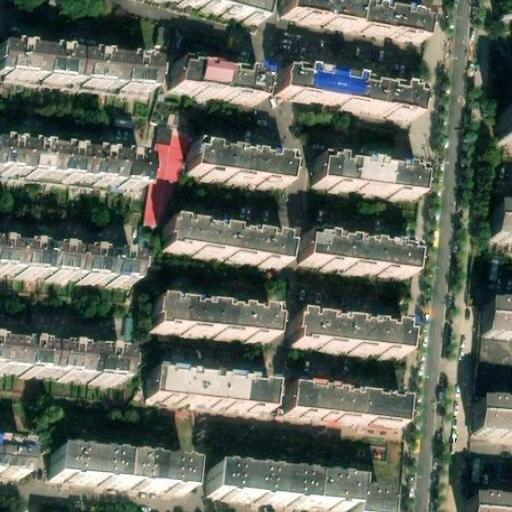building: (0, 45, 157, 94), (278, 70, 422, 117), (213, 467, 362, 510), (0, 144, 145, 187), (0, 242, 137, 286), (56, 448, 195, 489), (161, 221, 286, 265), (0, 340, 130, 382), (149, 373, 274, 414), (286, 390, 402, 429), (302, 236, 415, 275), (149, 304, 273, 339), (290, 318, 407, 355), (314, 159, 422, 199), (144, 130, 188, 228), (187, 146, 287, 188), (172, 62, 264, 102), (478, 339, 512, 406), (475, 403, 512, 439), (484, 304, 512, 341), (0, 440, 28, 475), (359, 487, 398, 512), (486, 261, 512, 297), (468, 494, 511, 512), (495, 206, 512, 239), (501, 106, 512, 138)
